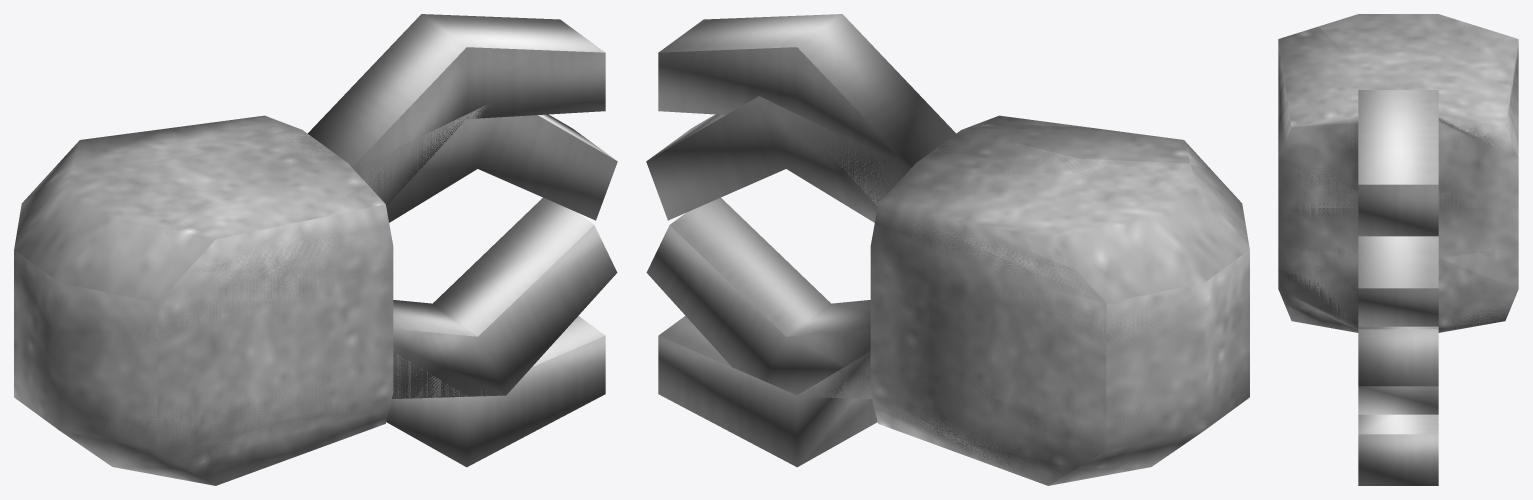
The model's file is grab.glb.
3 views of the same model, side by side, from view 1: azimuth 30°, elevation 25°; view 2: azimuth 150°, elevation 25°; view 3: azimuth 270°, elevation 25° (orthographic). The views are drawn at different scales.
Parts seen in each view (by area): view 1: open, closed; view 2: open, closed; view 3: open, closed.
Part boxes in pixels (box(x1,y1,x2,y2)): open: box(14, 14, 605, 485); closed: box(15, 105, 617, 484); open: box(658, 14, 1249, 485); closed: box(646, 96, 1249, 485); open: box(1278, 14, 1518, 485); closed: box(1278, 14, 1518, 414).
Bounding box in the file's own units: 0.7686 × 0.5527 × 0.3242.
Materials: 1 (1 with a texture image).
